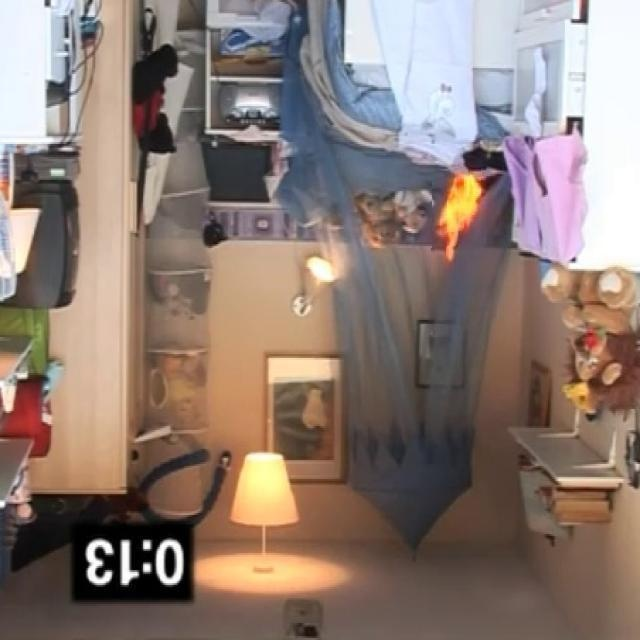fire: (410, 148, 507, 266)
